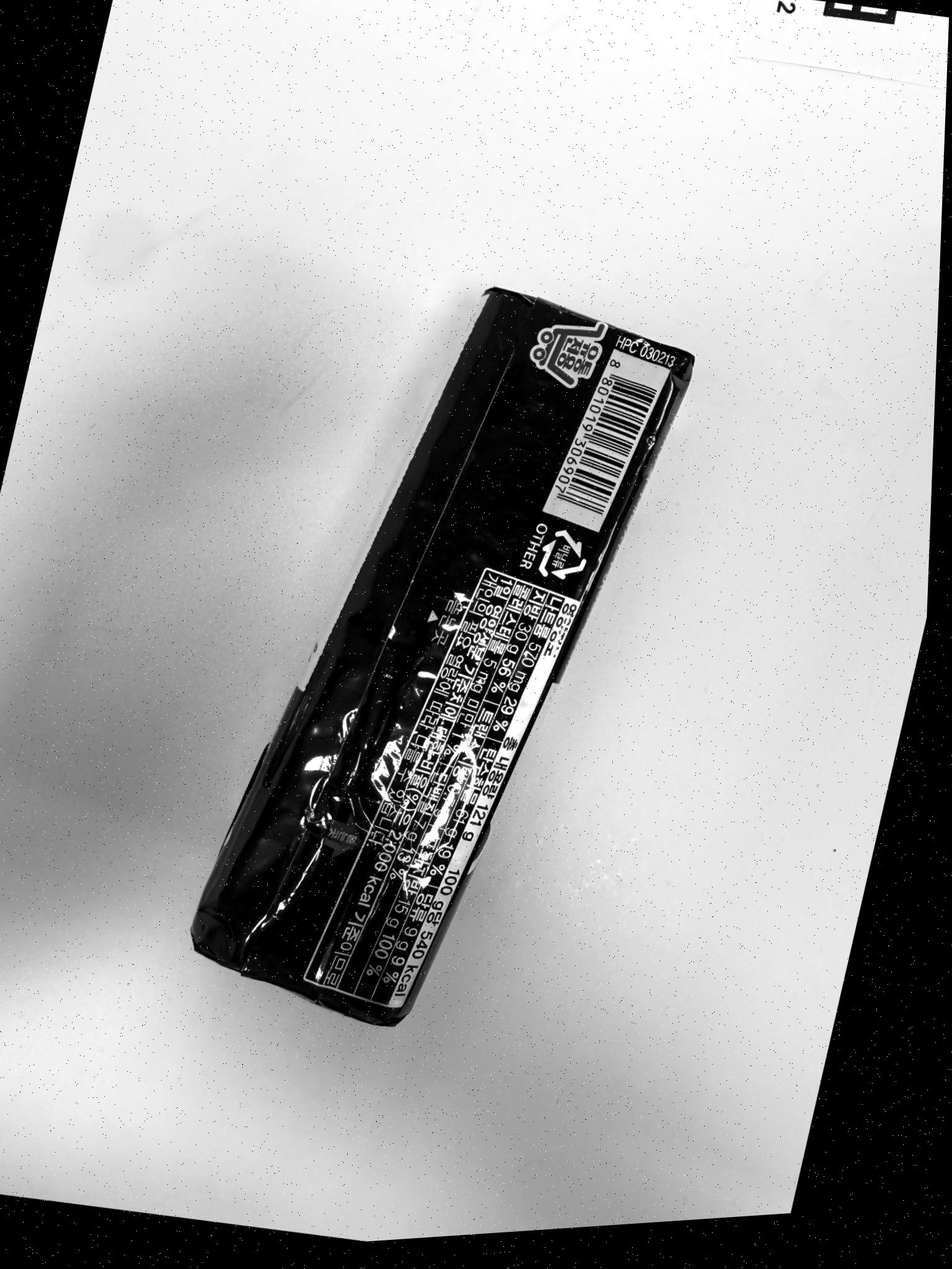cracker_ace: (192, 288, 694, 1025)
